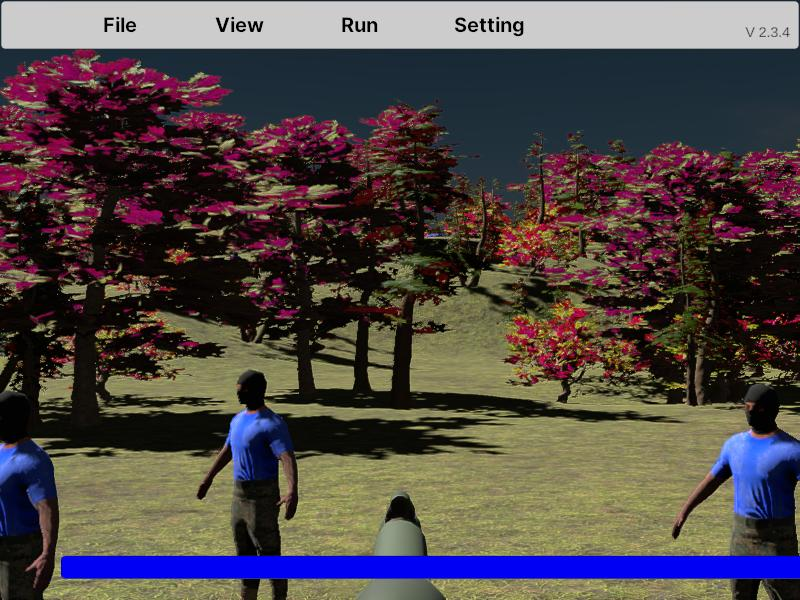Human: (670, 381, 800, 597), (196, 367, 299, 599), (0, 389, 60, 599)
